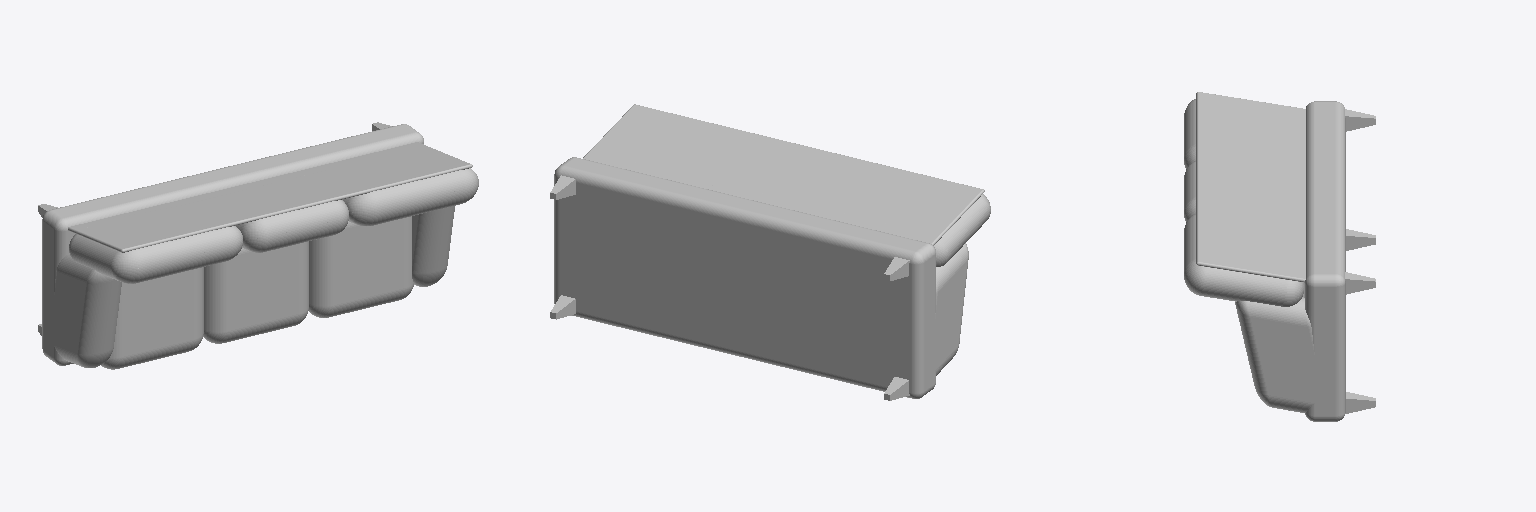
The model's file is tinker_10.obj.
3 views of the same model, side by side, from view 1: azimuth 30°, elevation 25°; view 2: azimuth 150°, elevation 25°; view 3: azimuth 270°, elevation 25° (orthographic).
Parts seen in each view (by area): view 1: obj_0; view 2: obj_0; view 3: obj_0.
Boxes of the visible parts, x1=… form: obj_0: x1=38, y1=122, x2=478, y2=369; obj_0: x1=550, y1=104, x2=990, y2=400; obj_0: x1=1184, y1=92, x2=1375, y2=421.
Size of the model in its own units: 42 by 17.22 by 18.94.